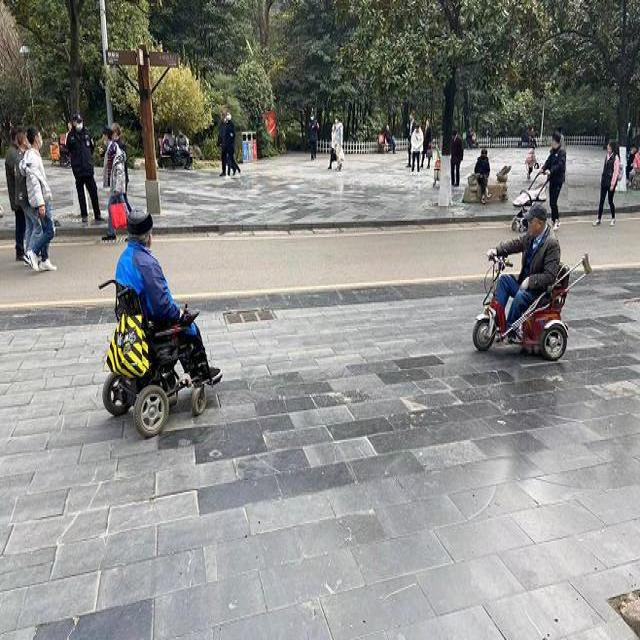wheelchairs: (90, 277, 224, 435)
